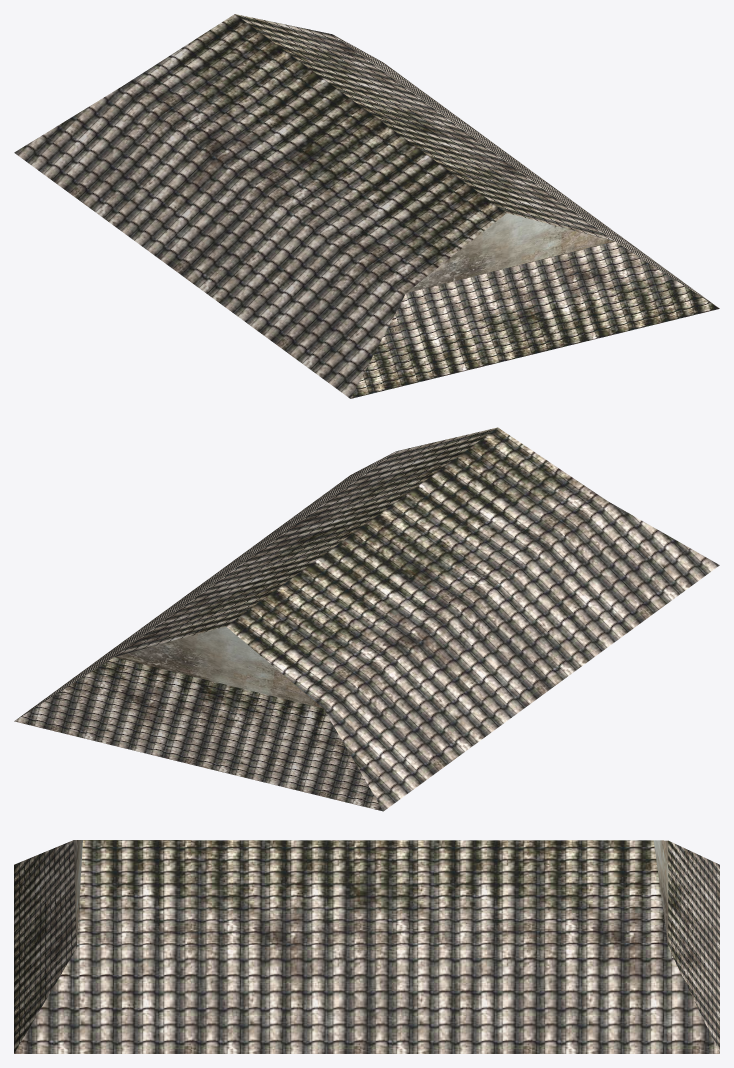
The picture shows the model from 3 angles, top to bottom: view 1: azimuth 30°, elevation 25°; view 2: azimuth 150°, elevation 25°; view 3: azimuth 270°, elevation 25°; orthographic projection. The views are drawn at different scales.
Parts seen in each view (by area): view 1: Box84; view 2: Box84; view 3: Box84.
Boxes of the visible parts, x1,y1,x2,y2 form: Box84: (14, 14, 719, 398); Box84: (14, 427, 719, 811); Box84: (14, 840, 719, 1053).
Size of the model in its own units: 161 by 48.3 by 255.
